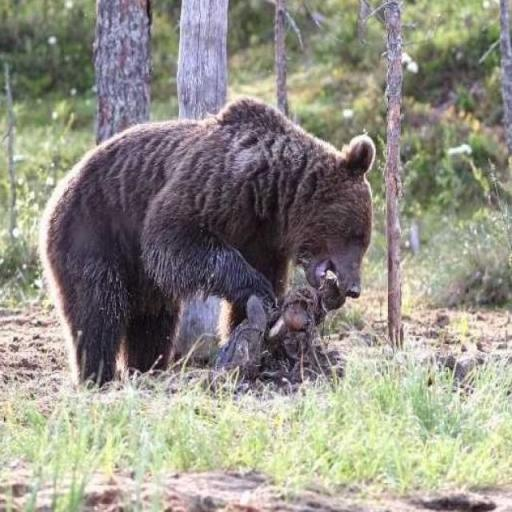Bear: (38, 94, 375, 392)
